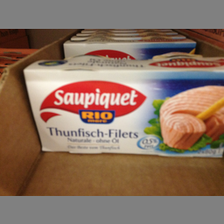fish: (23, 59, 222, 161)
